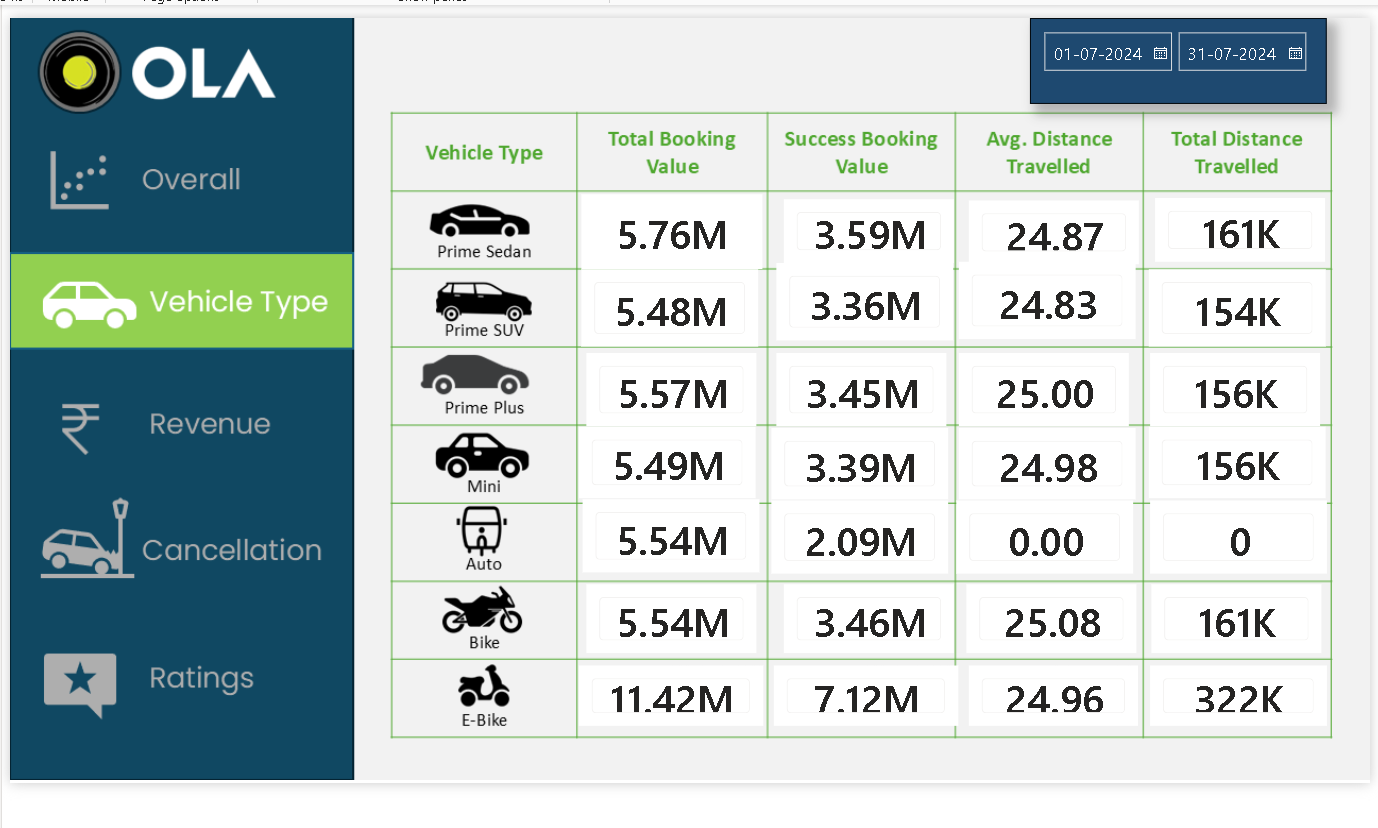

Layout of this report page (visuals, bound fields, positions):
{"tool":"powerbi","page":{"name":"Vehicle Type","canvas":[1280,720],"ordinal":1},"visuals":[{"type":"cardVisual","fields":{"Data":["Sum(bookings_cleaned.Booking_Value)"]},"box":[533.3,165.4,180.8,70.5],"z":0},{"type":"cardVisual","fields":{"Data":["Sum(bookings_cleaned.Booking_Value)"]},"box":[533.3,235.9,176.9,73.1],"z":1000},{"type":"cardVisual","fields":{"Data":["Sum(bookings_cleaned.Booking_Value)"]},"box":[537.2,315.4,170.5,69.2],"z":2000},{"type":"cardVisual","fields":{"Data":["Sum(bookings_cleaned.Booking_Value)"]},"box":[530.8,384.6,176.9,67.9],"z":3000},{"type":"cardVisual","fields":{"Data":["Sum(bookings_cleaned.Booking_Value)"]},"box":[534.6,452.6,176.9,69.2],"z":4000},{"type":"cardVisual","fields":{"Data":["Sum(bookings_cleaned.Booking_Value)"]},"box":[537.2,533.3,170.5,65.4],"z":5000},{"type":"cardVisual","fields":{"Data":["Sum(bookings_cleaned.Booking_Value)"]},"box":[530.8,609,183.3,57.7],"z":6000},{"type":"cardVisual","fields":{"Data":["Sum(bookings_cleaned.Booking_Value)"]},"box":[723.1,170.5,170.5,60.3],"z":7000},{"type":"cardVisual","fields":{"Data":["Sum(bookings_cleaned.Booking_Value)"]},"box":[716.7,230.8,176.9,73.1],"z":8000},{"type":"cardVisual","fields":{"Data":["Sum(bookings_cleaned.Booking_Value)"]},"box":[716.7,315.4,170.5,69.2],"z":9000},{"type":"cardVisual","fields":{"Data":["Sum(bookings_cleaned.Booking_Value)"]},"box":[711.5,385.9,176.9,67.9],"z":10000},{"type":"cardVisual","fields":{"Data":["Sum(bookings_cleaned.Booking_Value)"]},"box":[711.5,453.8,176.9,69.2],"z":11000},{"type":"cardVisual","fields":{"Data":["Sum(bookings_cleaned.Booking_Value)"]},"box":[723.1,533.3,170.5,65.4],"z":12000},{"type":"cardVisual","fields":{"Data":["Sum(bookings_cleaned.Booking_Value)"]},"box":[714.1,609,183.3,57.7],"z":13000},{"type":"cardVisual","fields":{"Data":["Avg(bookings_cleaned.Ride_Distance)"]},"box":[897.4,171.8,170.5,60.3],"z":14000},{"type":"cardVisual","fields":{"Data":["Avg(bookings_cleaned.Ride_Distance)"]},"box":[888.5,229.5,176.9,73.1],"z":15000},{"type":"cardVisual","fields":{"Data":["Avg(bookings_cleaned.Ride_Distance)"]},"box":[888.5,315.4,170.5,69.2],"z":16000},{"type":"cardVisual","fields":{"Data":["Avg(bookings_cleaned.Ride_Distance)"]},"box":[888.5,385.9,176.9,67.9],"z":17000},{"type":"cardVisual","fields":{"Data":["Avg(bookings_cleaned.Ride_Distance)"]},"box":[885.9,453.8,176.9,69.2],"z":18000},{"type":"cardVisual","fields":{"Data":["Avg(bookings_cleaned.Ride_Distance)"]},"box":[894.9,533.3,170.5,65.4],"z":19000},{"type":"cardVisual","fields":{"Data":["Avg(bookings_cleaned.Ride_Distance)"]},"box":[897.4,609,169.2,57.7],"z":20000},{"type":"cardVisual","fields":{"Data":["Sum(bookings_cleaned.Ride_Distance)"]},"box":[1073.1,169.2,170.5,60.3],"z":21000},{"type":"cardVisual","fields":{"Data":["Sum(bookings_cleaned.Ride_Distance)"]},"box":[1066.7,235.9,176.9,73.1],"z":22000},{"type":"cardVisual","fields":{"Data":["Sum(bookings_cleaned.Ride_Distance)"]},"box":[1067.9,315.4,170.5,69.2],"z":23000},{"type":"cardVisual","fields":{"Data":["Sum(bookings_cleaned.Ride_Distance)"]},"box":[1066.7,384.6,176.9,67.9],"z":24000},{"type":"cardVisual","fields":{"Data":["Sum(bookings_cleaned.Ride_Distance)"]},"box":[1067.9,453.8,176.9,69.2],"z":25000},{"type":"cardVisual","fields":{"Data":["Sum(bookings_cleaned.Ride_Distance)"]},"box":[1069.2,533.3,170.5,65.4],"z":26000},{"type":"cardVisual","fields":{"Data":["Sum(bookings_cleaned.Ride_Distance)"]},"box":[1067.9,609,176.9,57.7],"z":27000},{"type":"slicer","title":"Date","fields":{"Values":["bookings_cleaned.Date"]},"box":[960.3,0,279.5,80.8],"z":28000},{"type":"actionButton","box":[0,105,324.3,107],"z":28001},{"type":"actionButton","box":[0,329.4,324.3,107],"z":28002},{"type":"actionButton","box":[0,453.1,324.3,107],"z":28003},{"type":"actionButton","box":[0,580.9,324.3,107],"z":28004}]}

Visuals, with their boxes on the page's 1280x720 design canvas (x1, y1, x2, y2). These are canvas units, not pixel positions in the 1378x828 screenshot, which may show the page scaled, cropped or inside an application window:
cardVisual - Sum(bookings_cleaned.Booking_Value): crop(533, 165, 714, 236)
cardVisual - Sum(bookings_cleaned.Booking_Value): crop(533, 236, 710, 309)
cardVisual - Sum(bookings_cleaned.Booking_Value): crop(537, 315, 708, 385)
cardVisual - Sum(bookings_cleaned.Booking_Value): crop(531, 385, 708, 452)
cardVisual - Sum(bookings_cleaned.Booking_Value): crop(535, 453, 712, 522)
cardVisual - Sum(bookings_cleaned.Booking_Value): crop(537, 533, 708, 599)
cardVisual - Sum(bookings_cleaned.Booking_Value): crop(531, 609, 714, 667)
cardVisual - Sum(bookings_cleaned.Booking_Value): crop(723, 170, 894, 231)
cardVisual - Sum(bookings_cleaned.Booking_Value): crop(717, 231, 894, 304)
cardVisual - Sum(bookings_cleaned.Booking_Value): crop(717, 315, 887, 385)
cardVisual - Sum(bookings_cleaned.Booking_Value): crop(712, 386, 888, 454)
cardVisual - Sum(bookings_cleaned.Booking_Value): crop(712, 454, 888, 523)
cardVisual - Sum(bookings_cleaned.Booking_Value): crop(723, 533, 894, 599)
cardVisual - Sum(bookings_cleaned.Booking_Value): crop(714, 609, 897, 667)
cardVisual - Avg(bookings_cleaned.Ride_Distance): crop(897, 172, 1068, 232)
cardVisual - Avg(bookings_cleaned.Ride_Distance): crop(888, 230, 1065, 303)
cardVisual - Avg(bookings_cleaned.Ride_Distance): crop(888, 315, 1059, 385)
cardVisual - Avg(bookings_cleaned.Ride_Distance): crop(888, 386, 1065, 454)
cardVisual - Avg(bookings_cleaned.Ride_Distance): crop(886, 454, 1063, 523)
cardVisual - Avg(bookings_cleaned.Ride_Distance): crop(895, 533, 1065, 599)
cardVisual - Avg(bookings_cleaned.Ride_Distance): crop(897, 609, 1067, 667)
cardVisual - Sum(bookings_cleaned.Ride_Distance): crop(1073, 169, 1244, 230)
cardVisual - Sum(bookings_cleaned.Ride_Distance): crop(1067, 236, 1244, 309)
cardVisual - Sum(bookings_cleaned.Ride_Distance): crop(1068, 315, 1238, 385)
cardVisual - Sum(bookings_cleaned.Ride_Distance): crop(1067, 385, 1244, 452)
cardVisual - Sum(bookings_cleaned.Ride_Distance): crop(1068, 454, 1245, 523)
cardVisual - Sum(bookings_cleaned.Ride_Distance): crop(1069, 533, 1240, 599)
cardVisual - Sum(bookings_cleaned.Ride_Distance): crop(1068, 609, 1245, 667)
"Date" slicer: crop(960, 0, 1240, 81)
actionButton: crop(0, 105, 324, 212)
actionButton: crop(0, 329, 324, 436)
actionButton: crop(0, 453, 324, 560)
actionButton: crop(0, 581, 324, 688)
